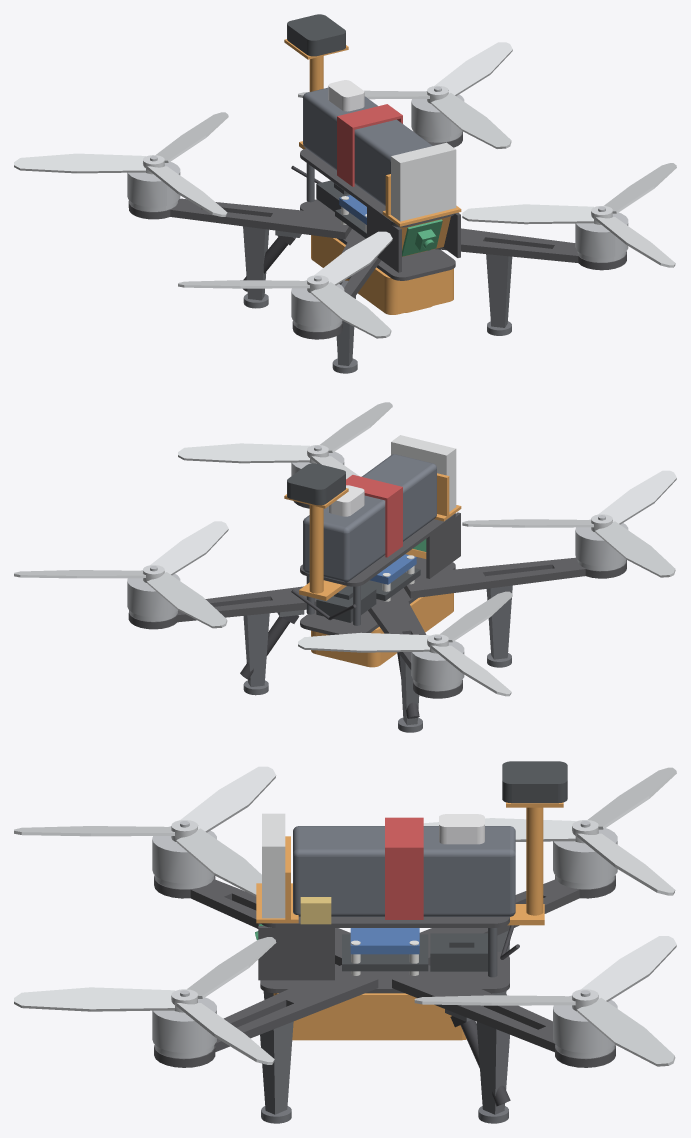
The model's file is halo_scout.glb.
3 renders of one model, top to bottom at view 1: azimuth 30°, elevation 25°; view 2: azimuth 150°, elevation 25°; view 3: azimuth 270°, elevation 25°, orthographic. The views are drawn at different scales.
Parts seen in each view (by area): view 1: battery, prop_FL, prop_RR, prop_FR, smoke_sensor, prop_RL, arm_RR, sensor_pod, arm_FL, battery_strap, gnss, bottom_plate (+16 smaller); view 2: battery, prop_RR, prop_RL, prop_FR, arm_FR, prop_FL, arm_RL, sensor_pod, arm_RR, gnss_mast, gnss, battery_strap (+16 smaller); view 3: battery, prop_FL, prop_RL, prop_FR, sensor_pod, prop_RR, arm_FL, arm_RL, battery_strap, side_plate_L, gnss, gnss_mast (+18 smaller).
Boxes of the visible parts, x1,y1,x2,y2 form: battery: (303,87,432,206); prop_FL: (462,163,676,267); prop_RR: (14,112,228,216); prop_FR: (178,231,392,338); smoke_sensor: (391,142,456,221); prop_RL: (298,42,512,148); arm_RR: (128,198,351,239); sensor_pod: (311,235,453,314); arm_FL: (435,228,626,270); battery_strap: (337,104,402,186); gnss: (287,14,345,56); bottom_plate: (300,199,455,280); battery: (303,454,436,582); prop_RR: (298,591,512,696); prop_RL: (14,521,228,628); prop_FR: (462,470,676,577); arm_FR: (404,557,626,598); prop_FL: (178,402,392,479); arm_RL: (128,586,316,629); sensor_pod: (311,593,453,667); arm_RR: (368,595,462,698); gnss_mast: (284,488,348,600); gnss: (287,463,345,505); battery_strap: (346,475,402,557); battery: (293,826,515,916); prop_FL: (14,937,276,1064); prop_RL: (414,936,676,1066); prop_FR: (14,766,276,896); sensor_pod: (273,993,466,1040); prop_RR: (423,767,676,895); arm_FL: (154,965,378,1067); arm_RL: (392,965,615,1067); battery_strap: (385,817,423,919); side_plate_L: (258,926,334,980); gnss: (502,761,567,803); gnss_mast: (506,802,563,925).
Bounding box in the file's own units: 0.3642 × 0.1715 × 0.3452.
